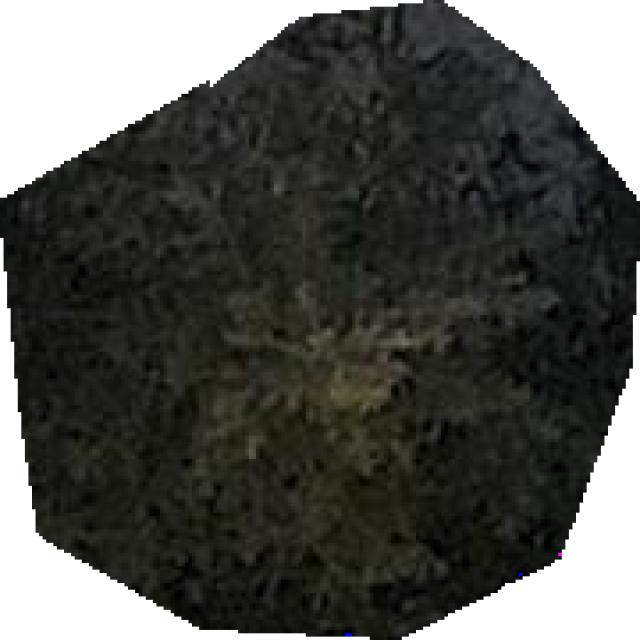spruce: (0, 0, 636, 637)
